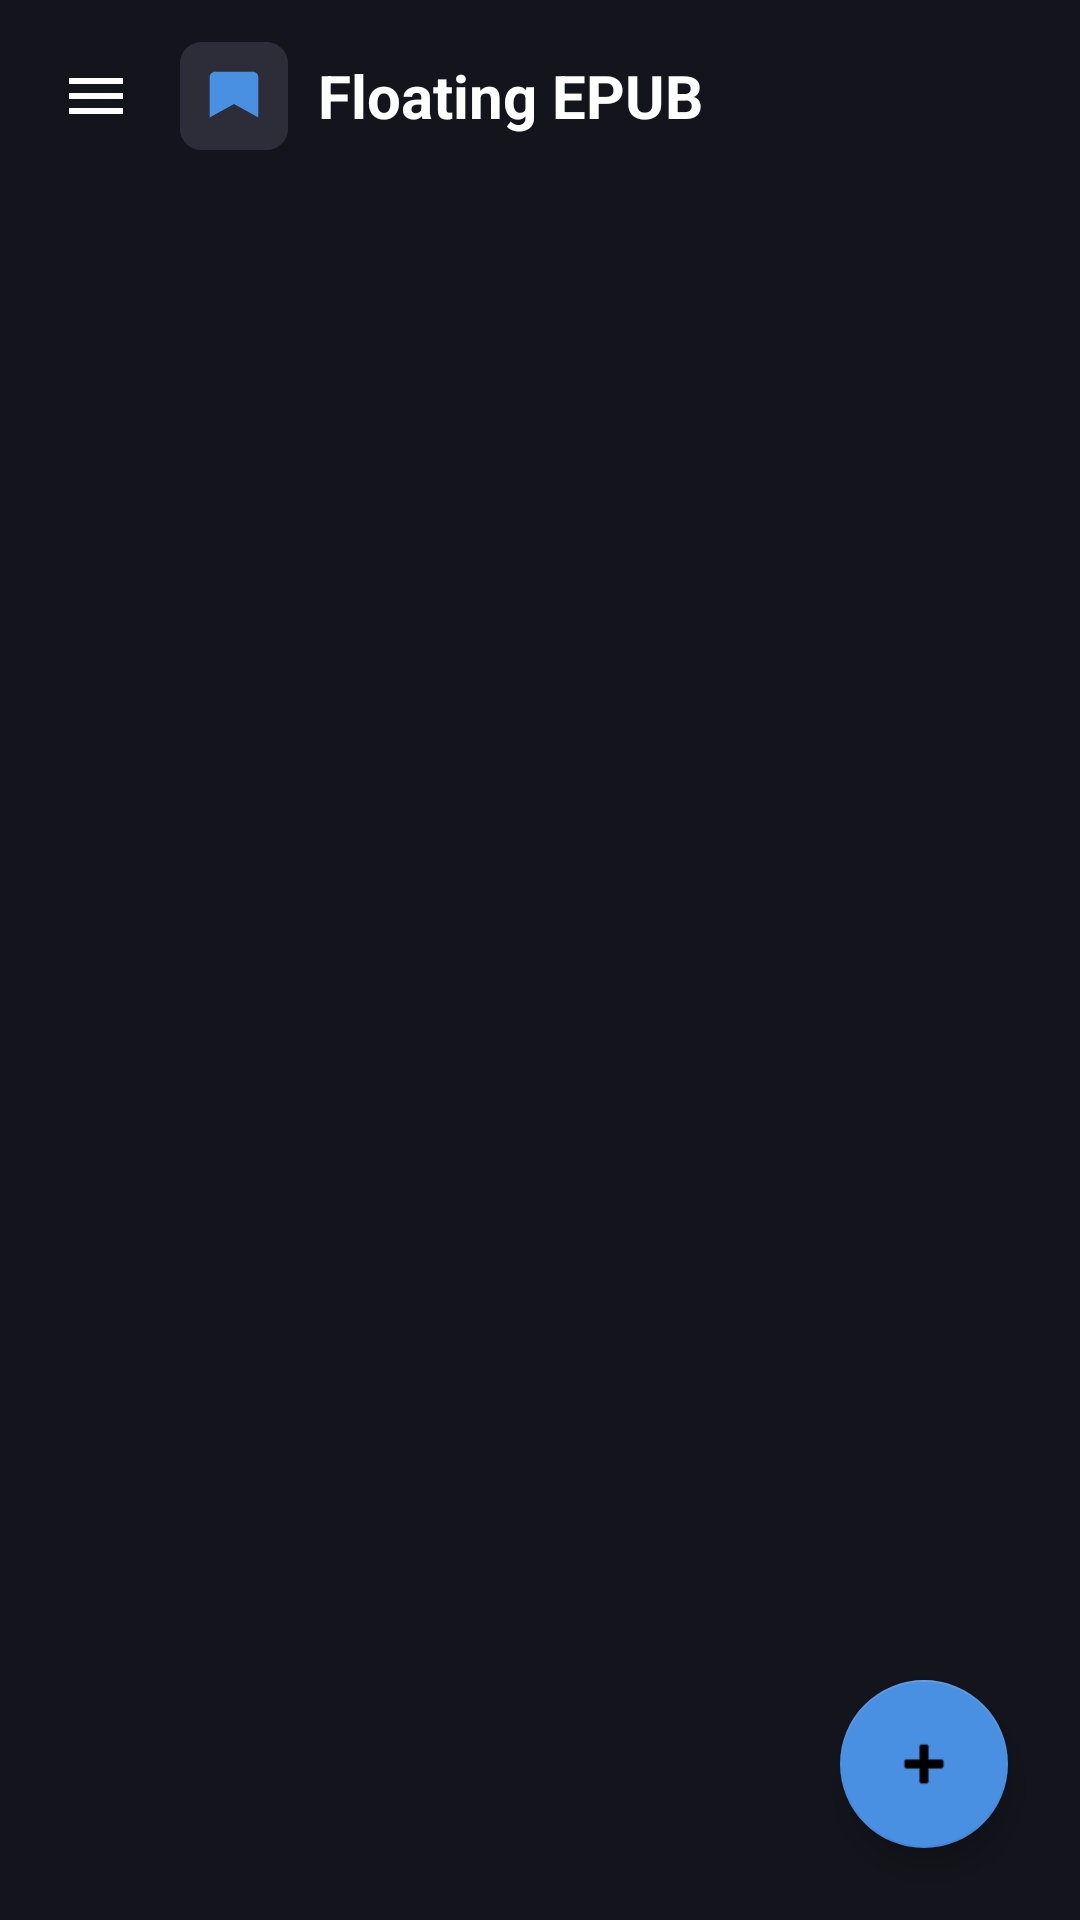

Icon bounding boxes for this 1080 × 1920 phone screenshot, format bbox=(x1, y1, x2, y2):
Import EPUB book: bbox=(840, 1680, 1008, 1848)
Menu: bbox=(69, 78, 123, 114)
